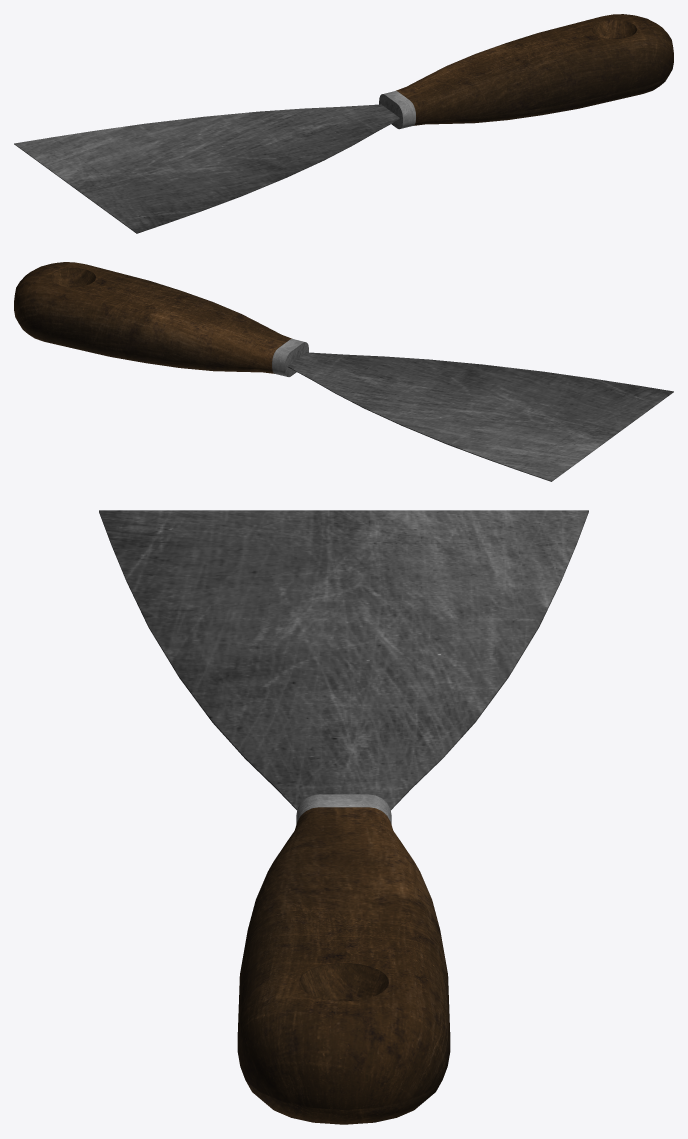
File: Spatula_UsedLook.fbx
3 renders of one model, top to bottom at view 1: azimuth 30°, elevation 25°; view 2: azimuth 150°, elevation 25°; view 3: azimuth 270°, elevation 25°, orthographic. The views are drawn at different scales.
Parts seen in each view (by area): view 1: Spatula_Used; view 2: Spatula_Used; view 3: Spatula_Used.
Boxes of the visible parts, x1=… form: Spatula_Used: x1=14, y1=14, x2=673, y2=233; Spatula_Used: x1=14, y1=262, x2=673, y2=481; Spatula_Used: x1=99, y1=510, x2=588, y2=1124.
Bounding box in the file's own units: 22.51 × 2 × 8.07.
